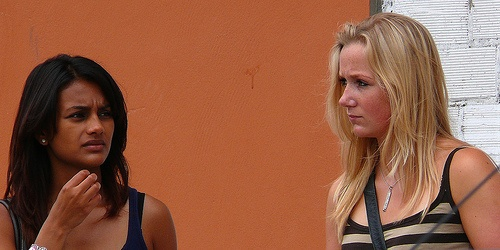head: (330, 13, 414, 143), (25, 55, 116, 168)
person: (312, 14, 497, 247), (1, 55, 179, 250)
